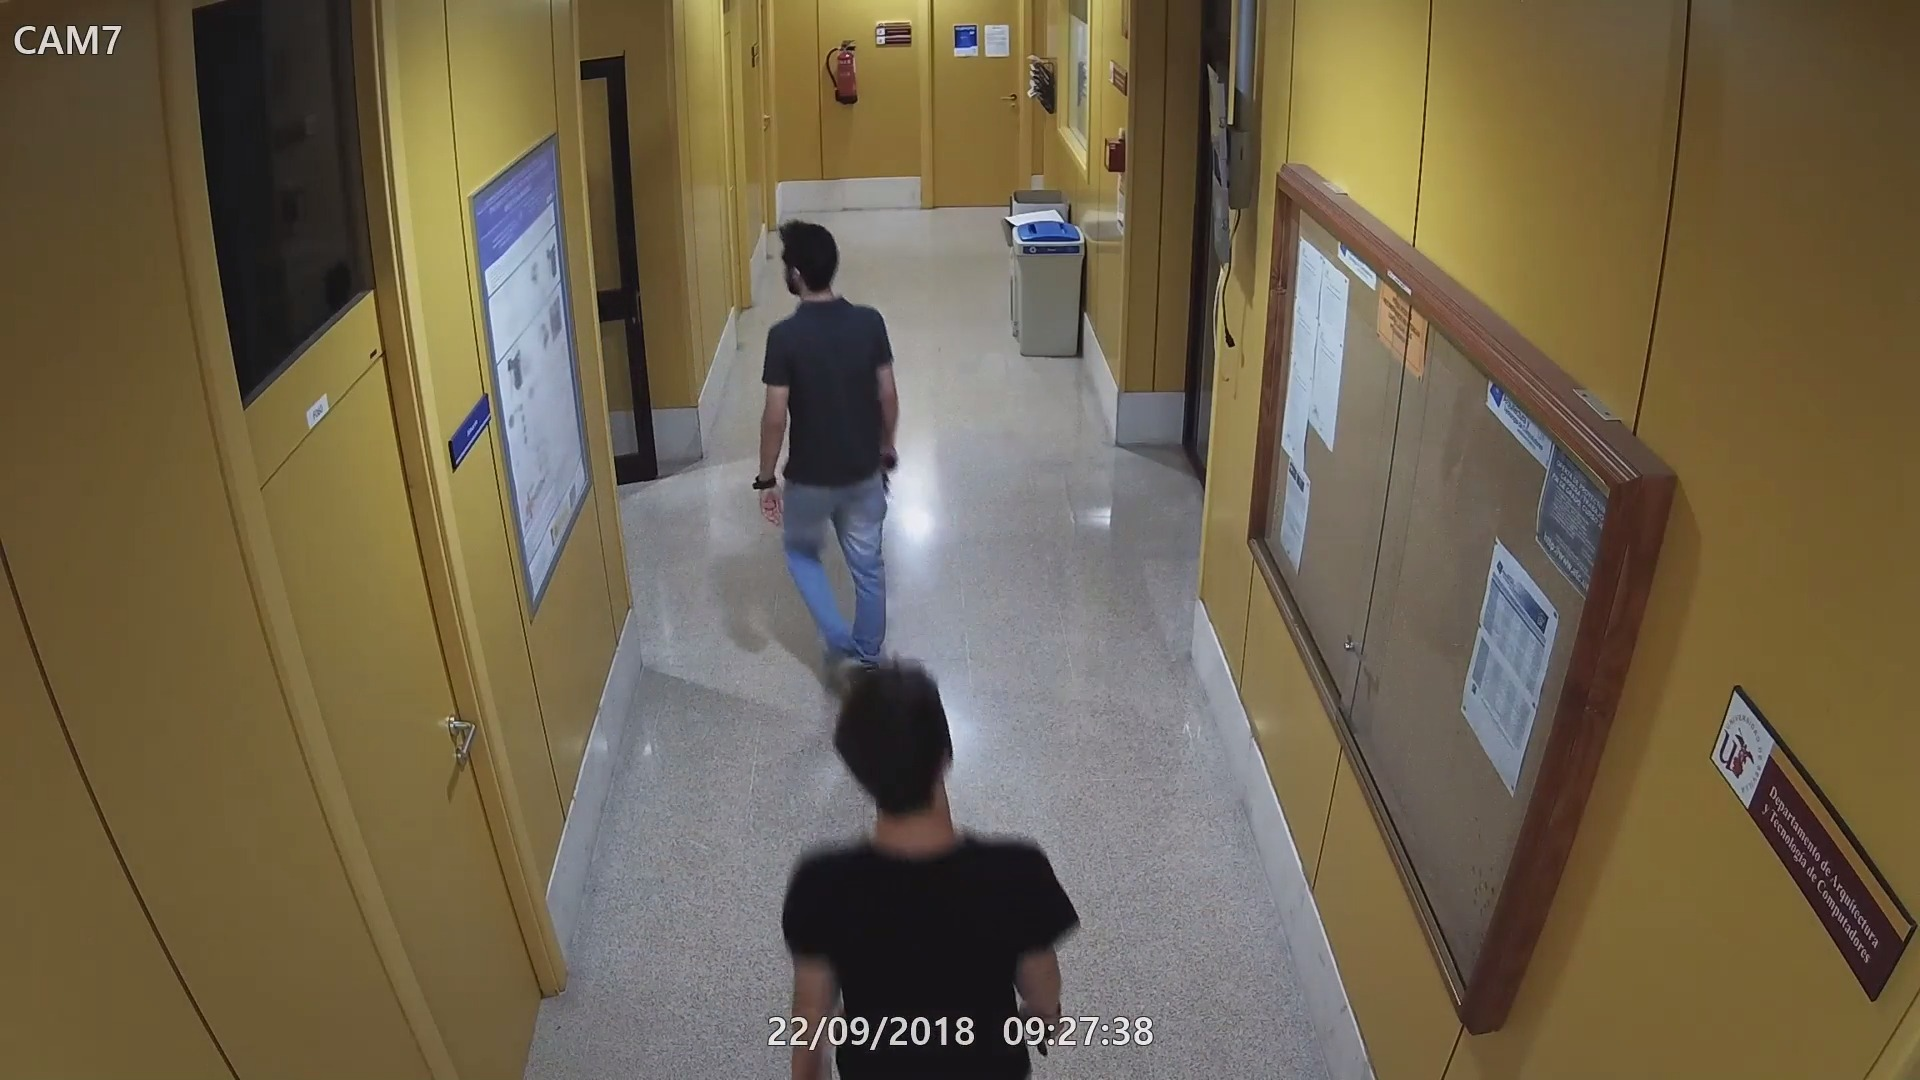Handgun: (1015, 1009, 1062, 1058), (876, 454, 901, 495)
